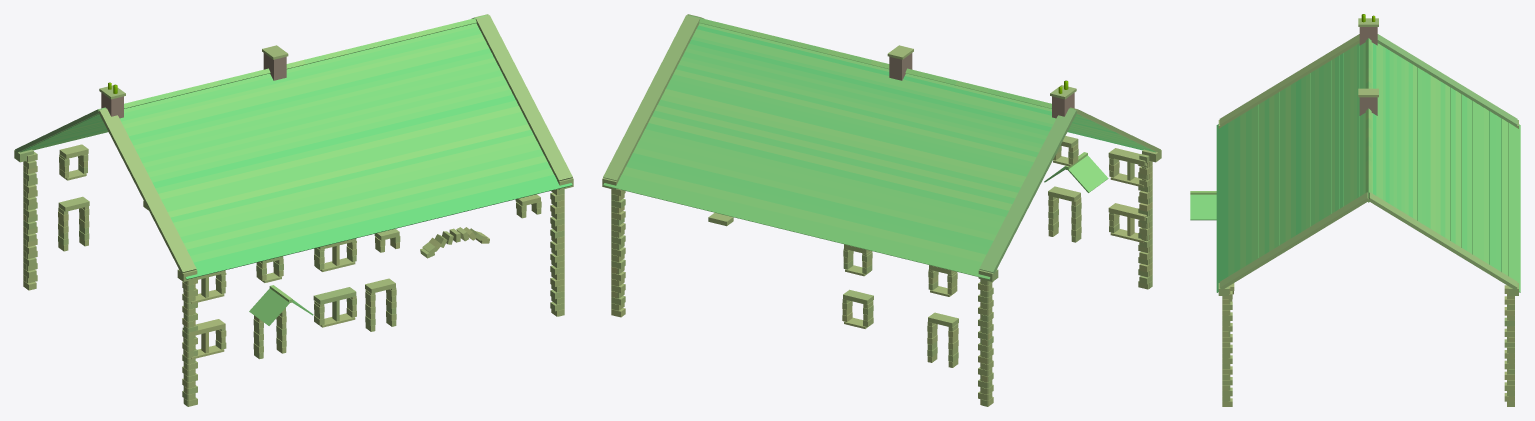
The model's file is SM_Bld_115_Stone.glb.
3 renders of one model, left to right at view 1: azimuth 30°, elevation 25°; view 2: azimuth 150°, elevation 25°; view 3: azimuth 270°, elevation 25°, orthographic. The views are drawn at different scales.
Visible parts, largest first — view 1: SM_Bld_115_Stone; view 2: SM_Bld_115_Stone; view 3: SM_Bld_115_Stone.
Part boxes in pixels (<box>): SM_Bld_115_Stone: <box>14,14,573,406</box>; SM_Bld_115_Stone: <box>602,14,1161,406</box>; SM_Bld_115_Stone: <box>1190,14,1520,406</box>.
Bounding box in the file's own units: 20.2 × 12.93 × 16.7.
